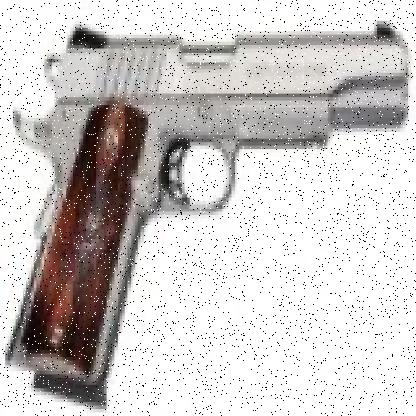pistol: (16, 17, 411, 398)
